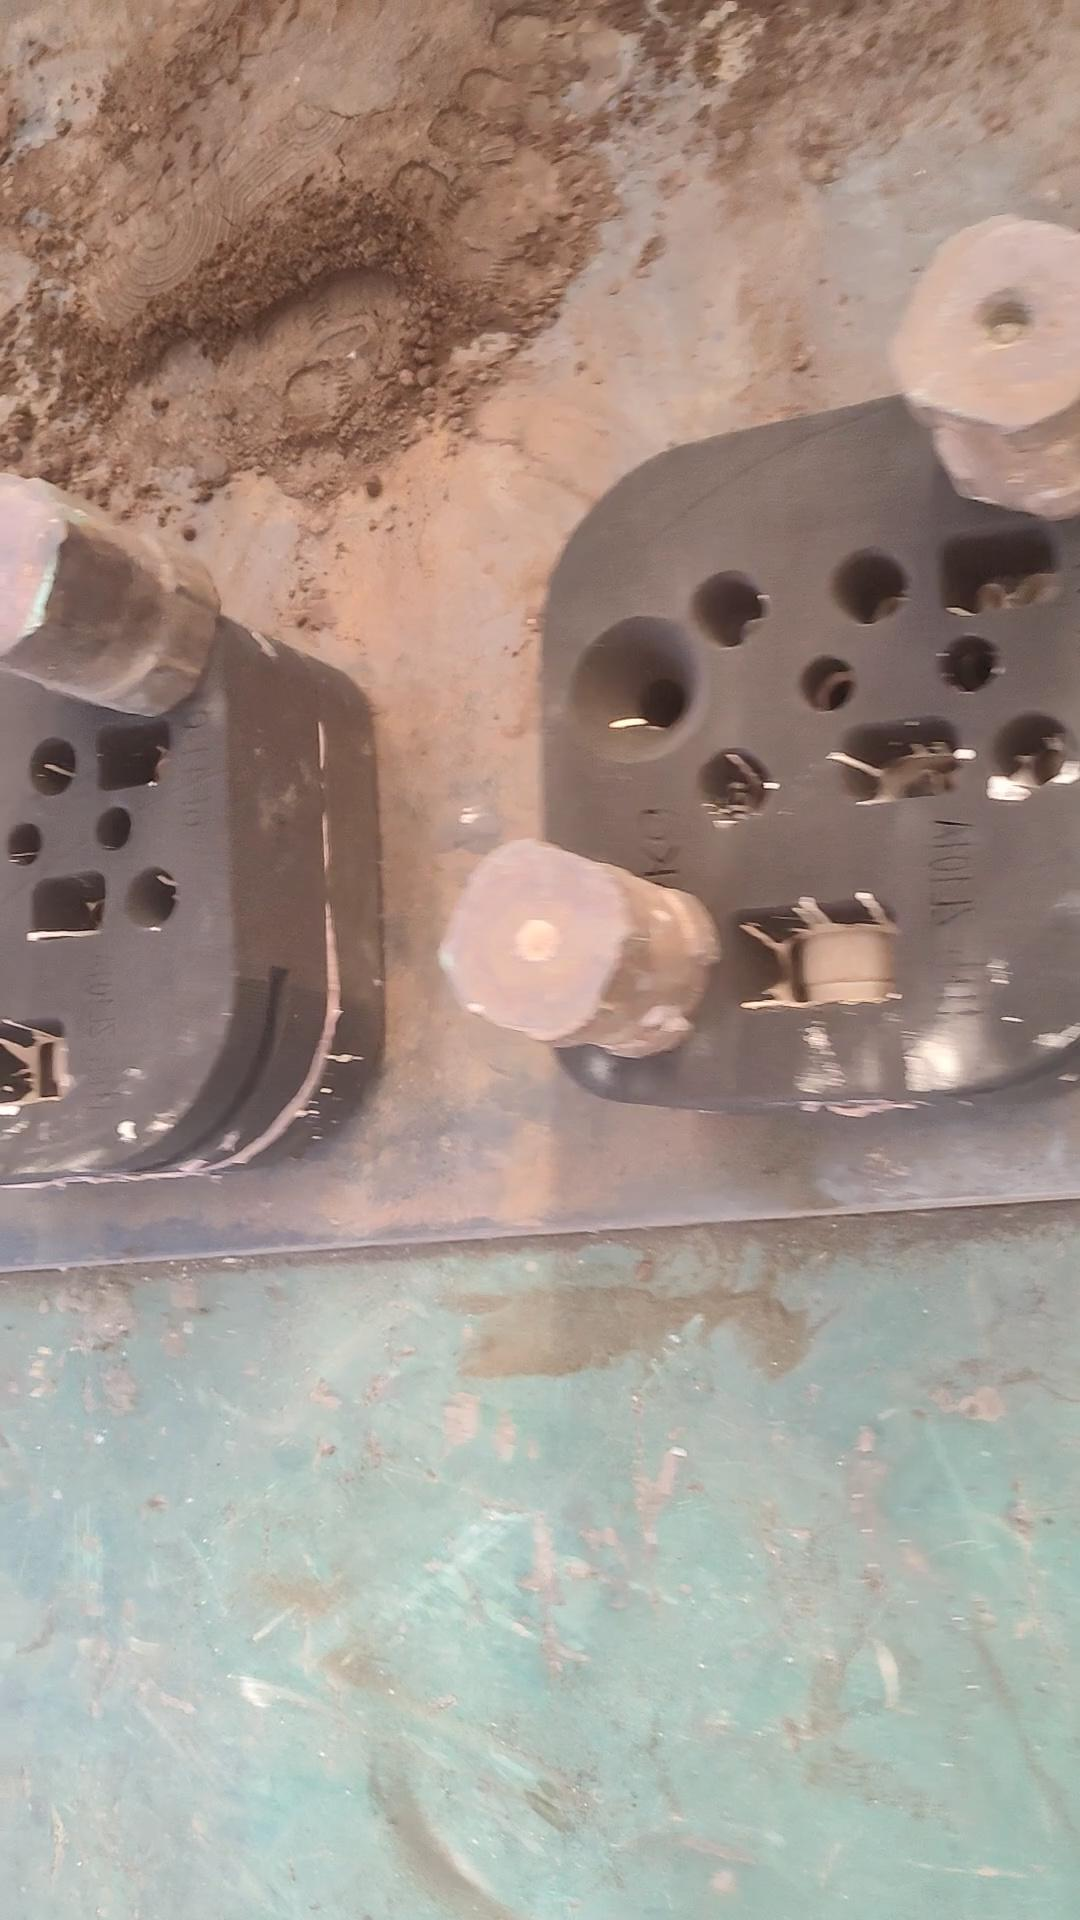pouring hole: (568, 616, 709, 760)
